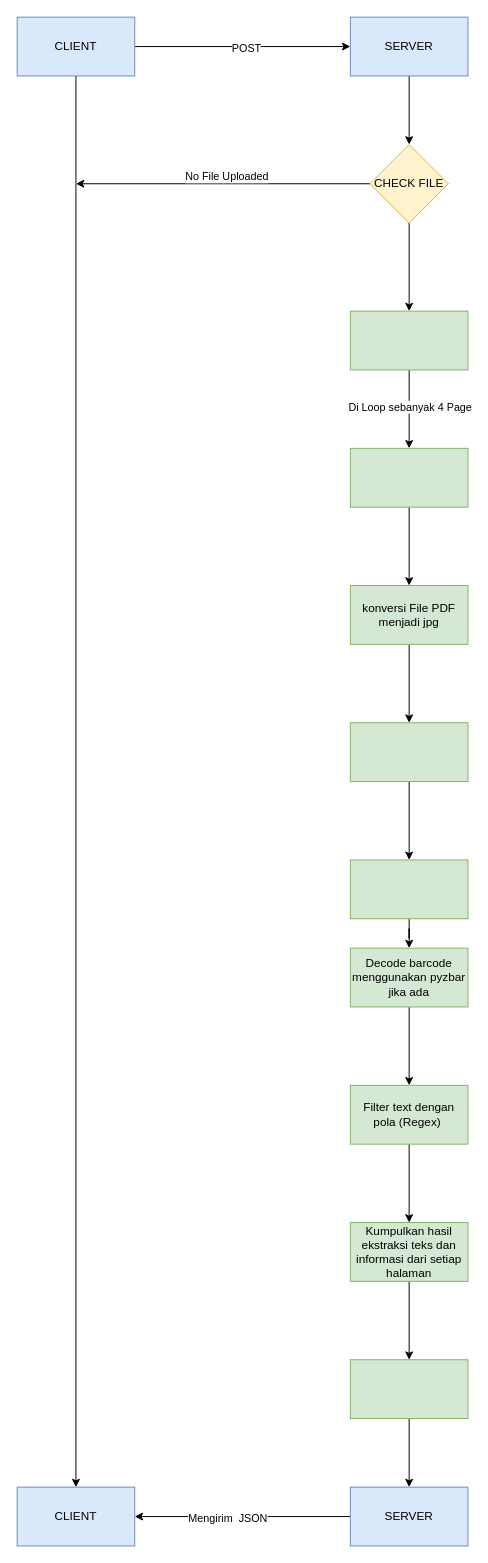
This 488x1563 diagram has some shape labels left out. Each missing label, with the centre of its shape:
Buka PDF menggunakan PyMuPDF (fitz): point 408,477
Hasilkan respons JSON berisi data teks dan informasi yang diekstrak: point 408,1389
Lakukan OCR menggunakan pytesseract untuk mengekstrak teks dari gambar: point 408,889
Lakukan Pemrosesan gambar menggunakan OpenCV: point 408,752
SIMPAN FILE PDF KE DIRECTORY "/pdf": point 408,340
